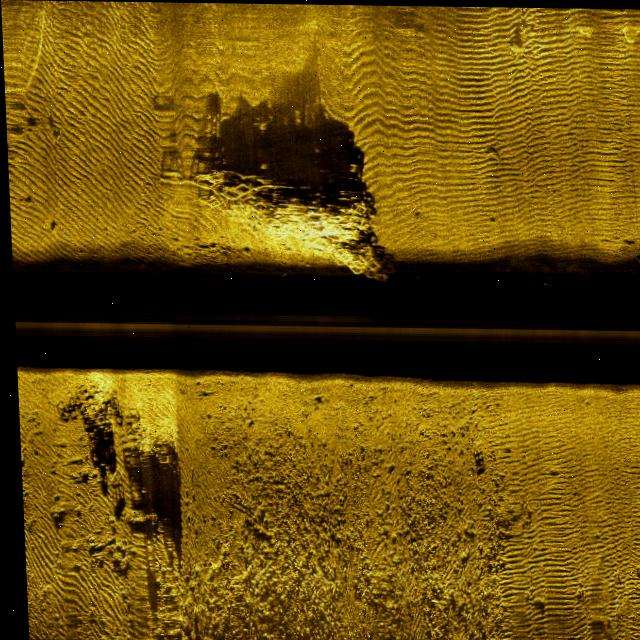artificial reef: (168, 137, 406, 285)
